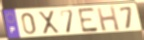0: (20, 12, 38, 36)
7: (119, 6, 135, 30), (60, 9, 74, 34)
E: (77, 7, 100, 34)
H: (95, 6, 121, 33)
X: (37, 10, 61, 36)
